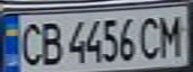4: (63, 16, 87, 64), (84, 16, 106, 64)
5: (100, 16, 121, 63)
6: (118, 15, 139, 62)
B: (36, 18, 66, 66)
C: (15, 18, 45, 68), (136, 12, 163, 61)
M: (154, 11, 187, 58)
